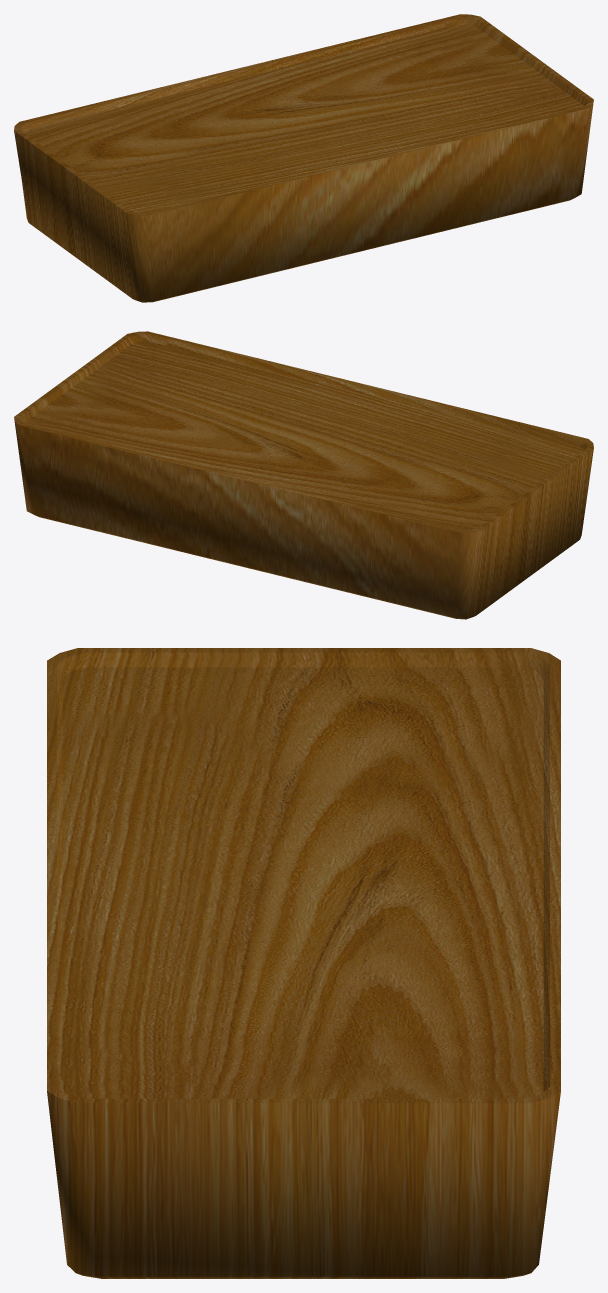
The model's file is agehama.fbx.
3 renders of one model, top to bottom at view 1: azimuth 30°, elevation 25°; view 2: azimuth 150°, elevation 25°; view 3: azimuth 270°, elevation 25°, orthographic. The views are drawn at different scales.
Visible parts, largest first — view 1: Body; view 2: Body; view 3: Body.
Part boxes in pixels (bbox=[...]): Body: bbox=[14, 14, 593, 302]; Body: bbox=[14, 331, 593, 619]; Body: bbox=[47, 648, 560, 1278].
Bounding box in the file's own units: 36 × 6.95 × 17.18.
